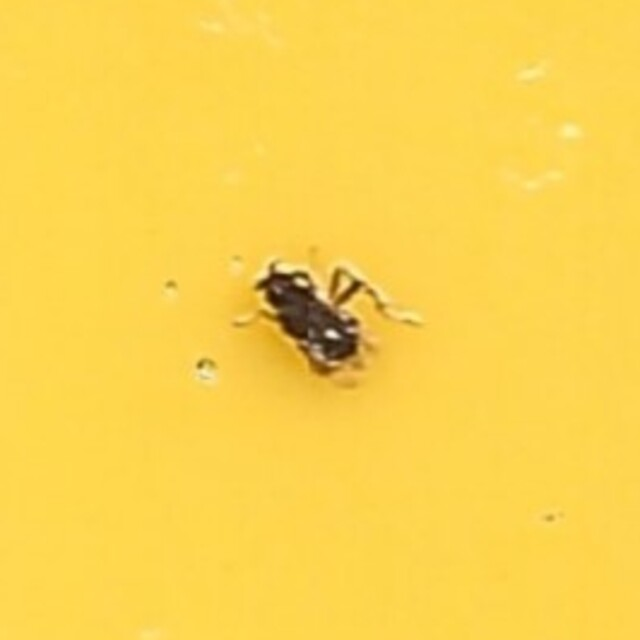Brachycera: (241, 258, 399, 382)
